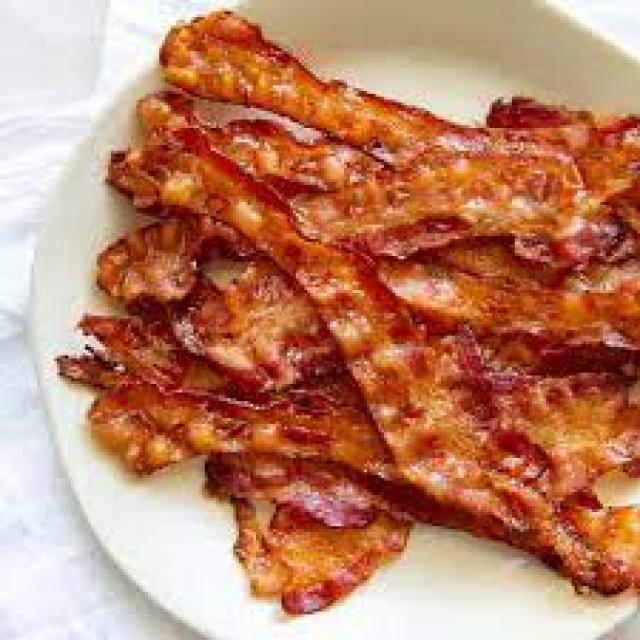Bacon: (121, 141, 570, 574), (111, 94, 640, 268), (160, 11, 486, 167), (60, 318, 388, 472), (378, 238, 640, 344)
